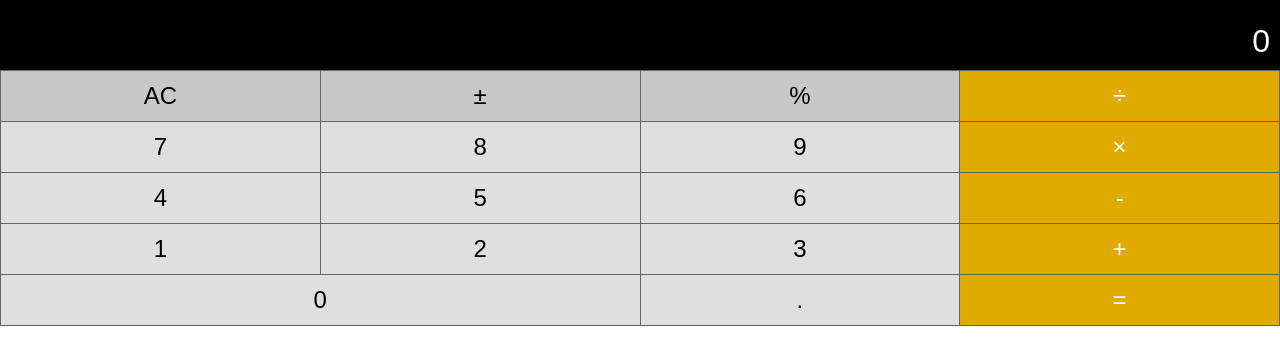
Scenario: TYPE_NUMBER › should display 2.2 when press 2, ., 2
The image size is (1280, 343).
What coordinates should you click on to do the following:
click the text with id "key-2"
I would click on:
 (481, 249)
Its box is [321,224,640,274].
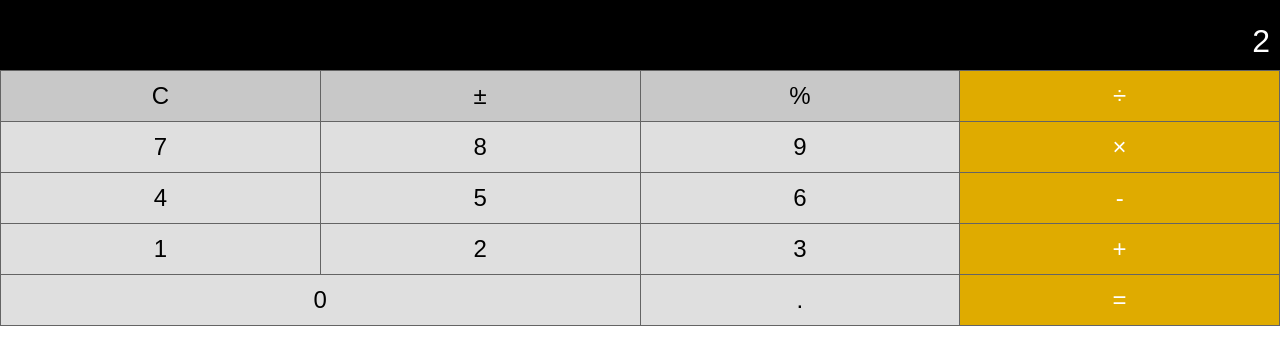
What coordinates should you click on to do the following:
click the text with id "key-decimal"
I would click on:
 (801, 300)
Its box is [641,275,960,325].
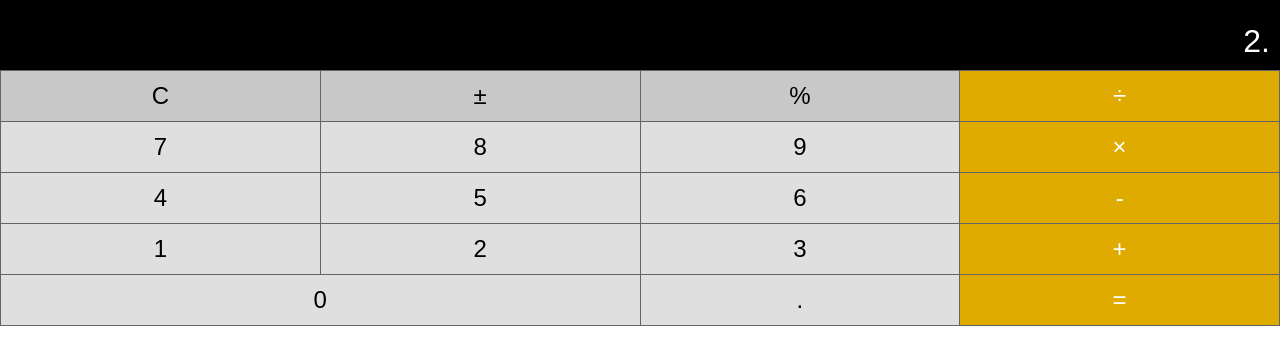
Result: the text "2." is shown at [0,0,1279,70]
What coordinates should you click on to do the following:
click the text with id "key-2"
I would click on:
 (481, 249)
Its box is [321,224,640,274].
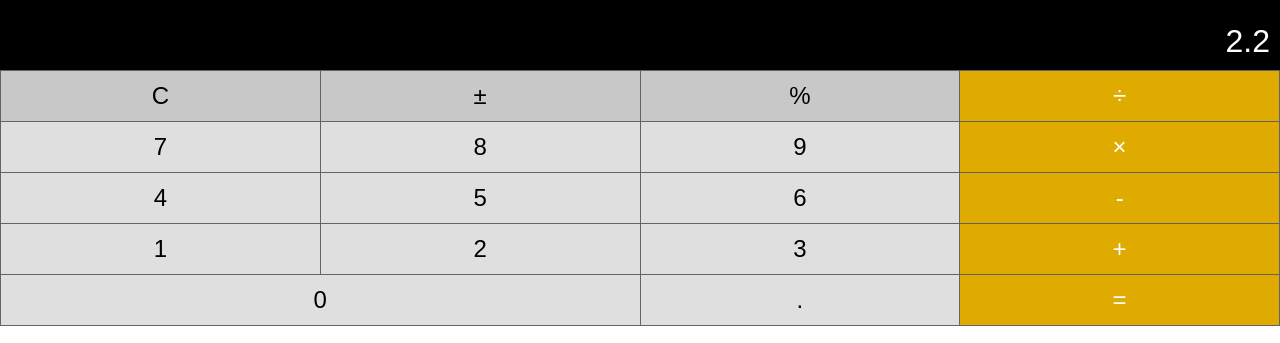
Result: the text "2.2" is shown at [0,0,1279,70]
